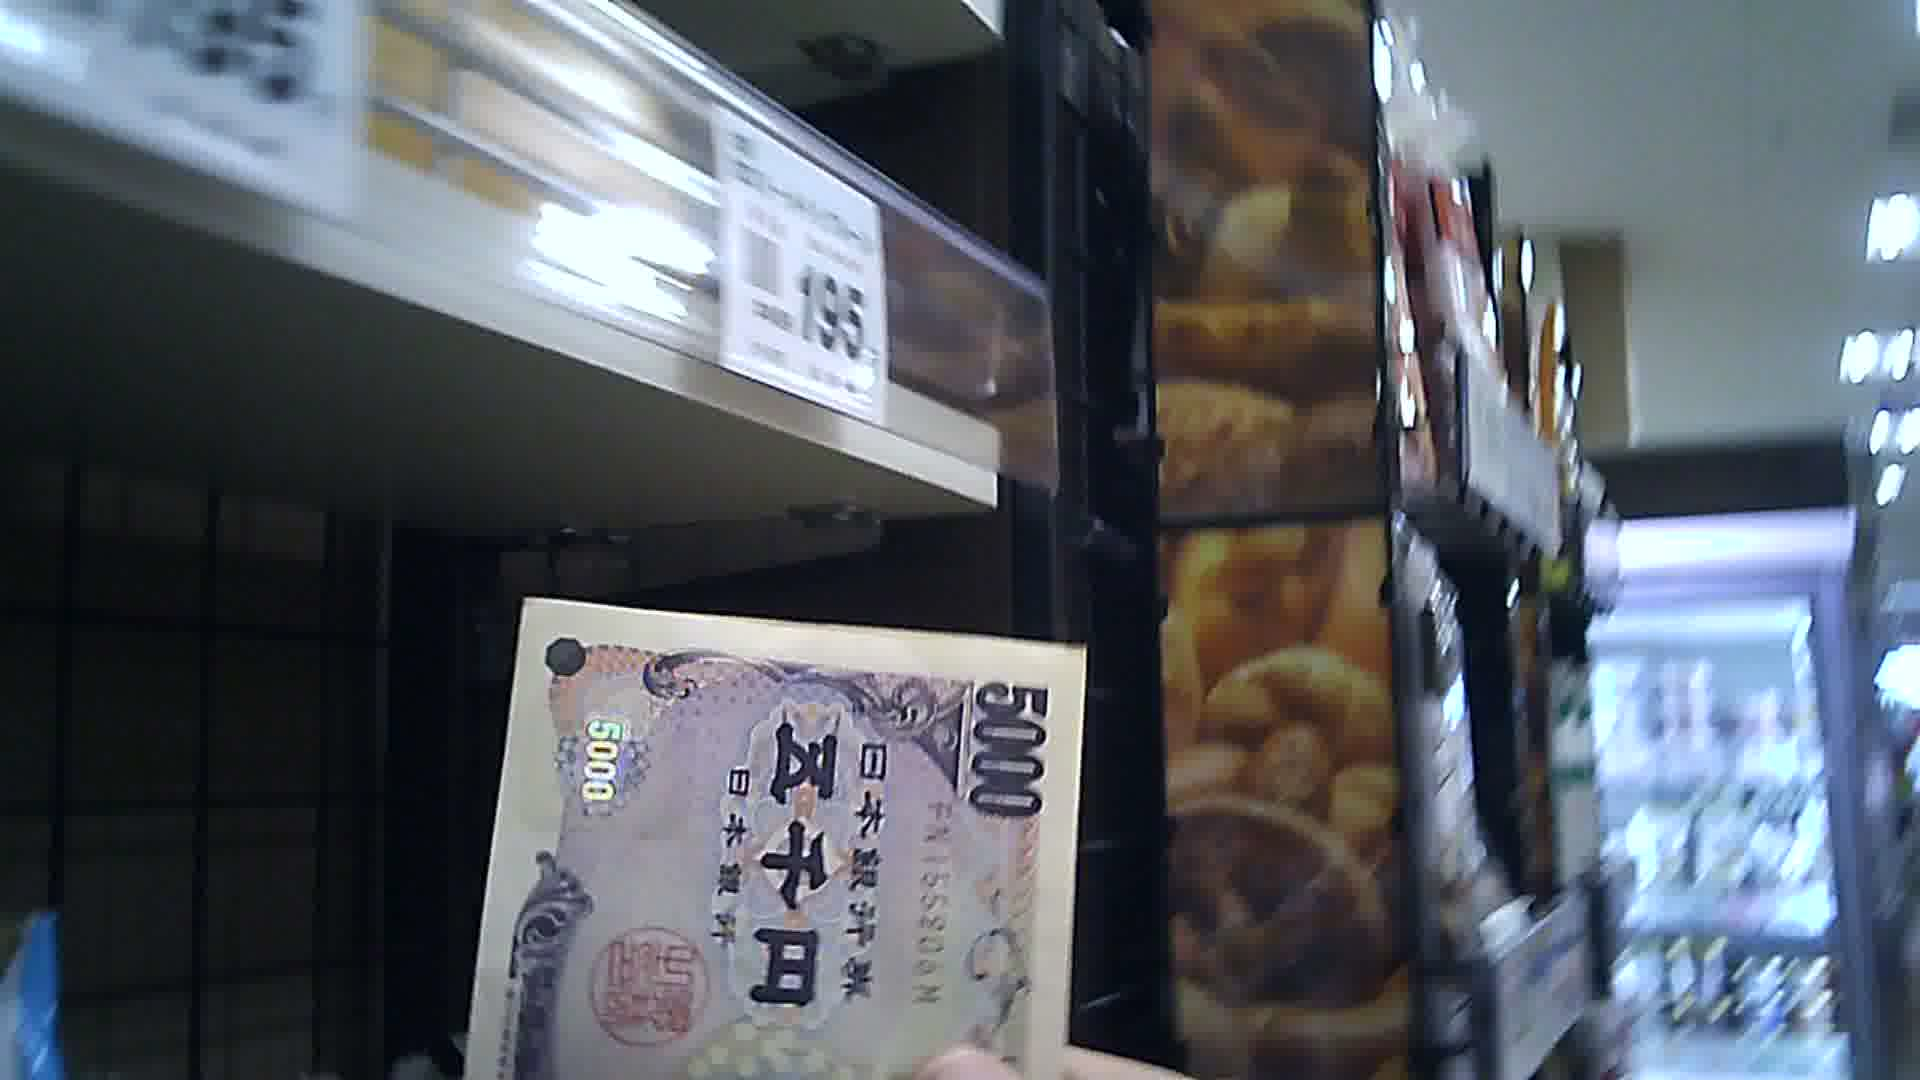5,000 Yen: (460, 583, 1097, 1064)
